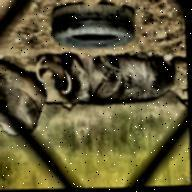boar: (33, 50, 176, 110)
